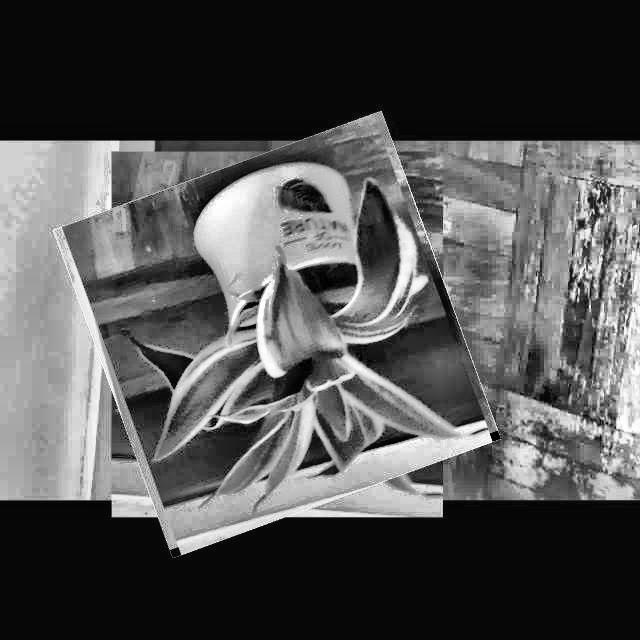plants: (78, 135, 476, 533)
